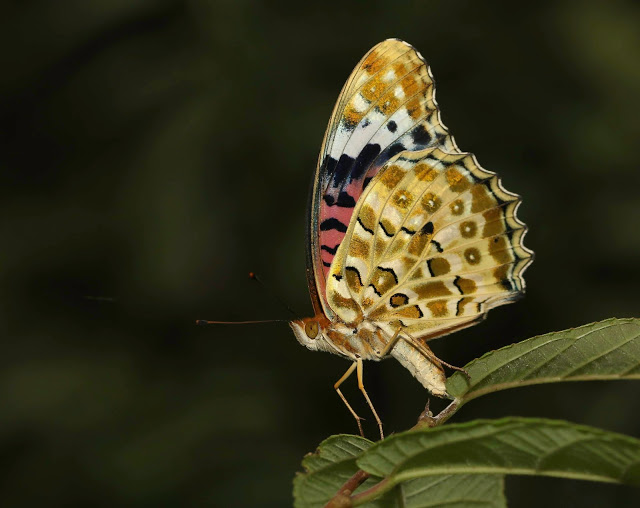Argyreus hyperbius: (185, 31, 540, 446)
butterfly: (187, 33, 542, 448)
